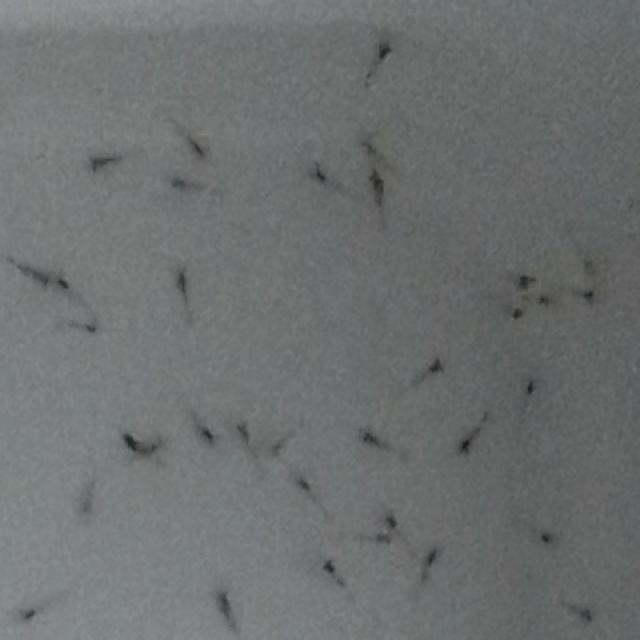shrimp-seed: (169, 268, 191, 298), (358, 428, 383, 452), (214, 590, 235, 618), (356, 134, 378, 156), (426, 356, 446, 380), (309, 162, 329, 186), (30, 270, 50, 294), (366, 171, 386, 195), (296, 472, 314, 498), (89, 152, 108, 176), (188, 136, 207, 160), (123, 433, 143, 455), (516, 272, 536, 294), (376, 41, 395, 64), (168, 169, 186, 193), (457, 436, 476, 458), (579, 256, 599, 276), (235, 422, 253, 444), (534, 294, 556, 312), (382, 510, 399, 533), (268, 441, 286, 462), (77, 498, 94, 520), (148, 434, 166, 454), (522, 377, 538, 399), (582, 286, 598, 308), (423, 548, 439, 569), (321, 558, 337, 579), (511, 305, 527, 325), (56, 272, 72, 292), (202, 429, 218, 448), (580, 606, 596, 624), (20, 606, 36, 624), (84, 323, 100, 339), (377, 532, 392, 548), (540, 532, 552, 548)
